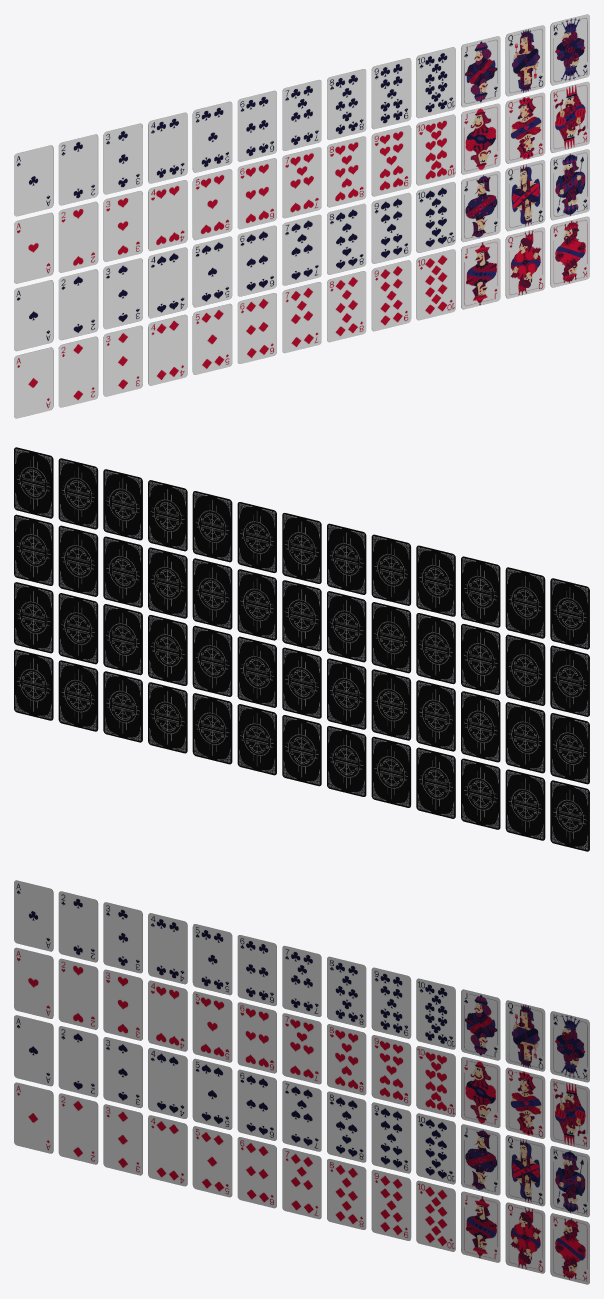
Rendered from deck-of-cards.glb.
The picture shows the model from 3 angles, top to bottom: view 1: azimuth 30°, elevation 25°; view 2: azimuth 150°, elevation 25°; view 3: azimuth 330°, elevation 25°; orthographic projection.
Visible parts, largest first — view 1: Diamond_5, Club_9, Diamond_2, Spade_2, Spade_Queen, Heart_2, Heart_Queen, Club_Queen, Diamond_Queen, Club_2, Diamond_9, Spade_5 (+40 smaller); view 2: Diamond_5, Club_9, Diamond_2, Spade_2, Spade_Queen, Heart_2, Heart_Queen, Club_Queen, Diamond_Queen, Club_2, Diamond_9, Spade_5 (+40 smaller); view 3: Diamond_9, Club_5, Diamond_Queen, Spade_2, Spade_Queen, Heart_2, Heart_Queen, Club_2, Diamond_2, Club_Queen, Diamond_5, Spade_5 (+40 smaller).
Part boxes in pixels (left/top/right/bottom): Diamond_5: left=192, top=303, right=232, bottom=374; Club_9: left=371, top=58, right=411, bottom=129; Diamond_2: left=58, top=336, right=98, bottom=407; Spade_2: left=58, top=269, right=98, bottom=340; Spade_Queen: left=505, top=160, right=545, bottom=231; Heart_2: left=58, top=201, right=98, bottom=272; Heart_Queen: left=505, top=92, right=545, bottom=163; Club_Queen: left=505, top=25, right=545, bottom=96; Diamond_Queen: left=505, top=227, right=545, bottom=298; Club_2: left=58, top=134, right=98, bottom=205; Diamond_9: left=371, top=260, right=411, bottom=331; Spade_5: left=192, top=236, right=232, bottom=307; Diamond_5: left=371, top=736, right=411, bottom=807; Club_9: left=192, top=491, right=232, bottom=562; Diamond_2: left=505, top=769, right=545, bottom=840; Spade_2: left=505, top=702, right=545, bottom=773; Spade_Queen: left=58, top=593, right=98, bottom=664; Heart_2: left=505, top=634, right=545, bottom=705; Heart_Queen: left=58, top=525, right=98, bottom=596; Club_Queen: left=58, top=458, right=98, bottom=529; Diamond_Queen: left=58, top=660, right=98, bottom=731; Club_2: left=505, top=567, right=545, bottom=638; Diamond_9: left=192, top=693, right=232, bottom=764; Spade_5: left=371, top=669, right=411, bottom=740; Diamond_9: left=371, top=1169, right=411, bottom=1240; Club_5: left=192, top=924, right=232, bottom=995; Diamond_Queen: left=505, top=1202, right=545, bottom=1273; Spade_2: left=58, top=1026, right=98, bottom=1097; Spade_Queen: left=505, top=1135, right=545, bottom=1206; Heart_2: left=58, top=958, right=98, bottom=1029; Heart_Queen: left=505, top=1067, right=545, bottom=1138; Club_2: left=58, top=891, right=98, bottom=962; Diamond_2: left=58, top=1093, right=98, bottom=1164; Club_Queen: left=505, top=1000, right=545, bottom=1071; Diamond_5: left=192, top=1126, right=232, bottom=1197; Spade_5: left=192, top=1058, right=232, bottom=1129.
Bounding box in the file's own units: 0.8501 × 0.374 × 0.00024.
2 materials, 2 textured.
